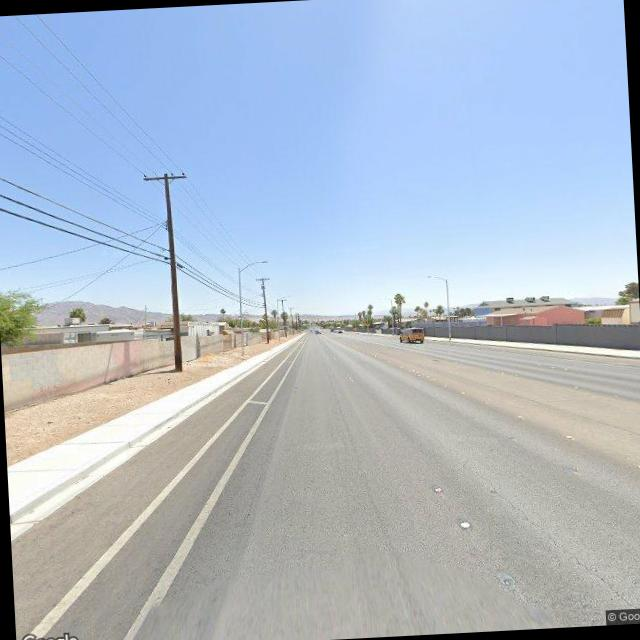pothole: (466, 458, 636, 619)
